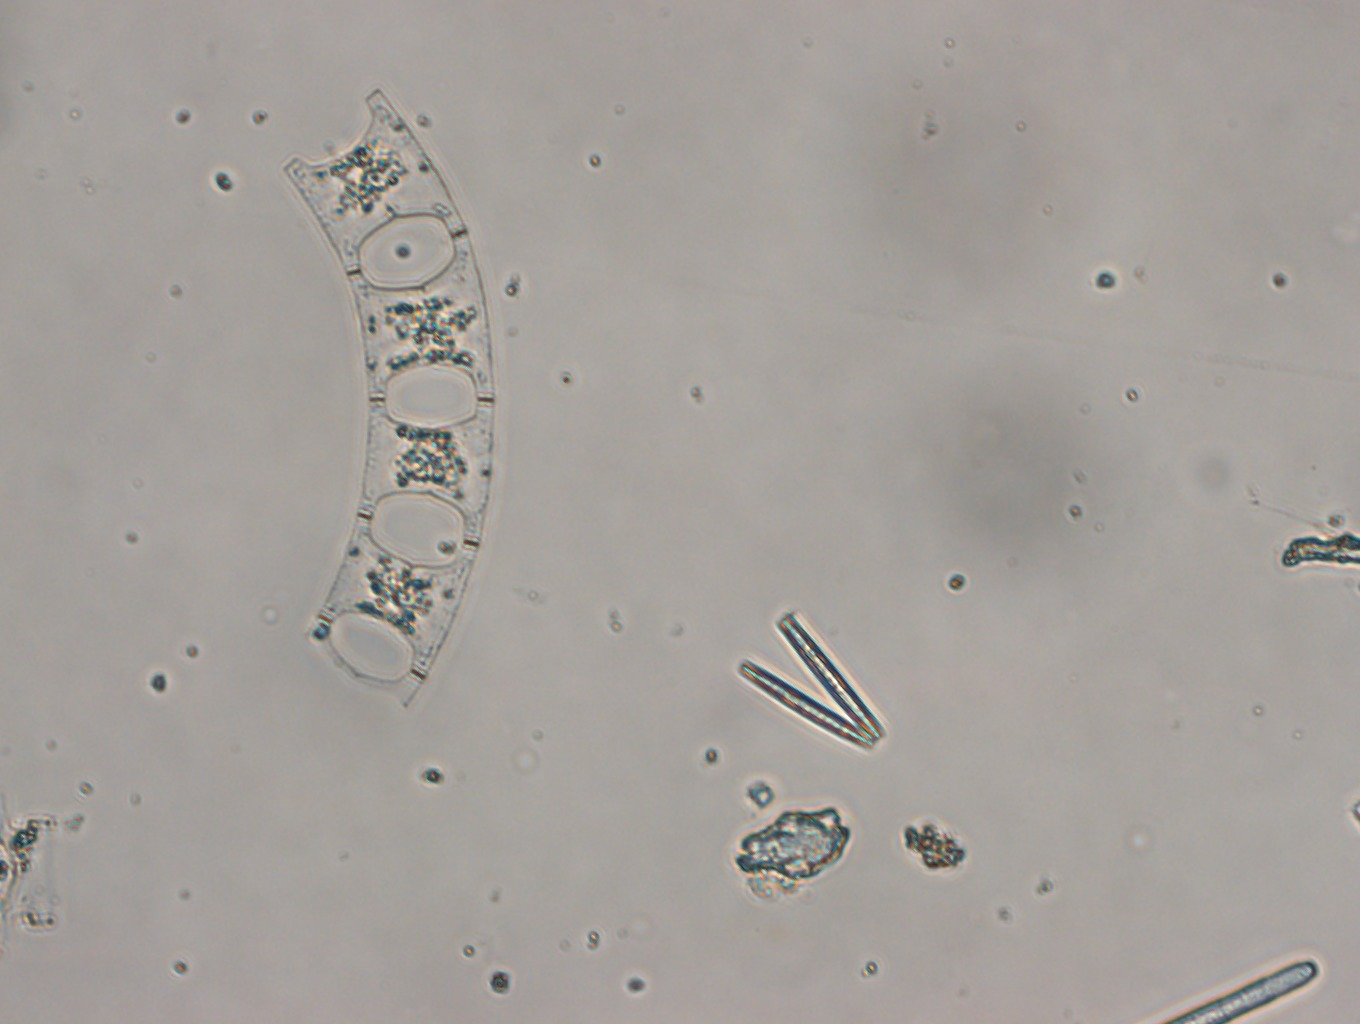eucampia: (268, 91, 505, 723)
thalassionema frauenfeldii: (731, 600, 897, 749)
